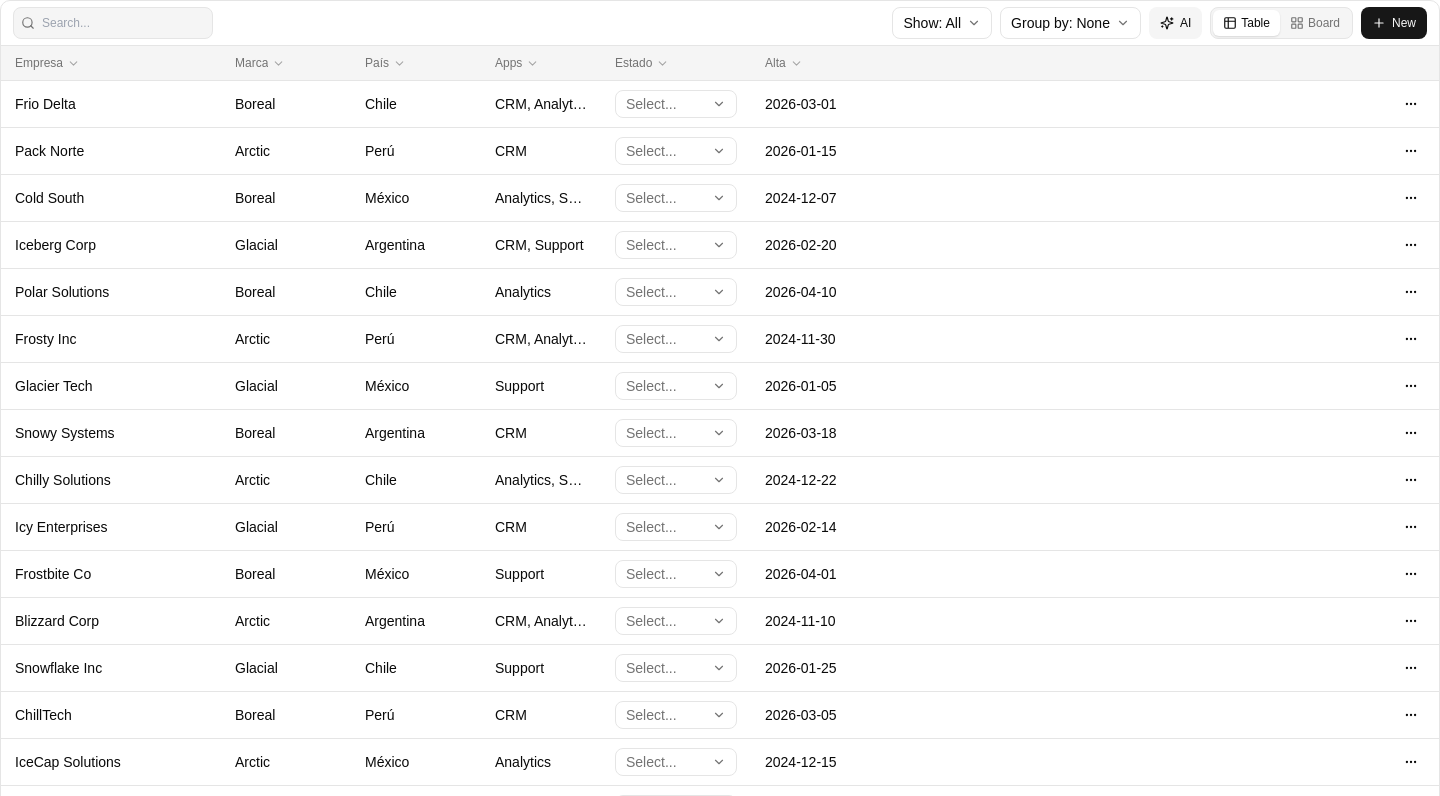
Test case: a full English labels object translates the date filter menu
The width and height of the screenshot is (1440, 796).
Click the button "Alta": (811, 63) 765,54 -> 857,72
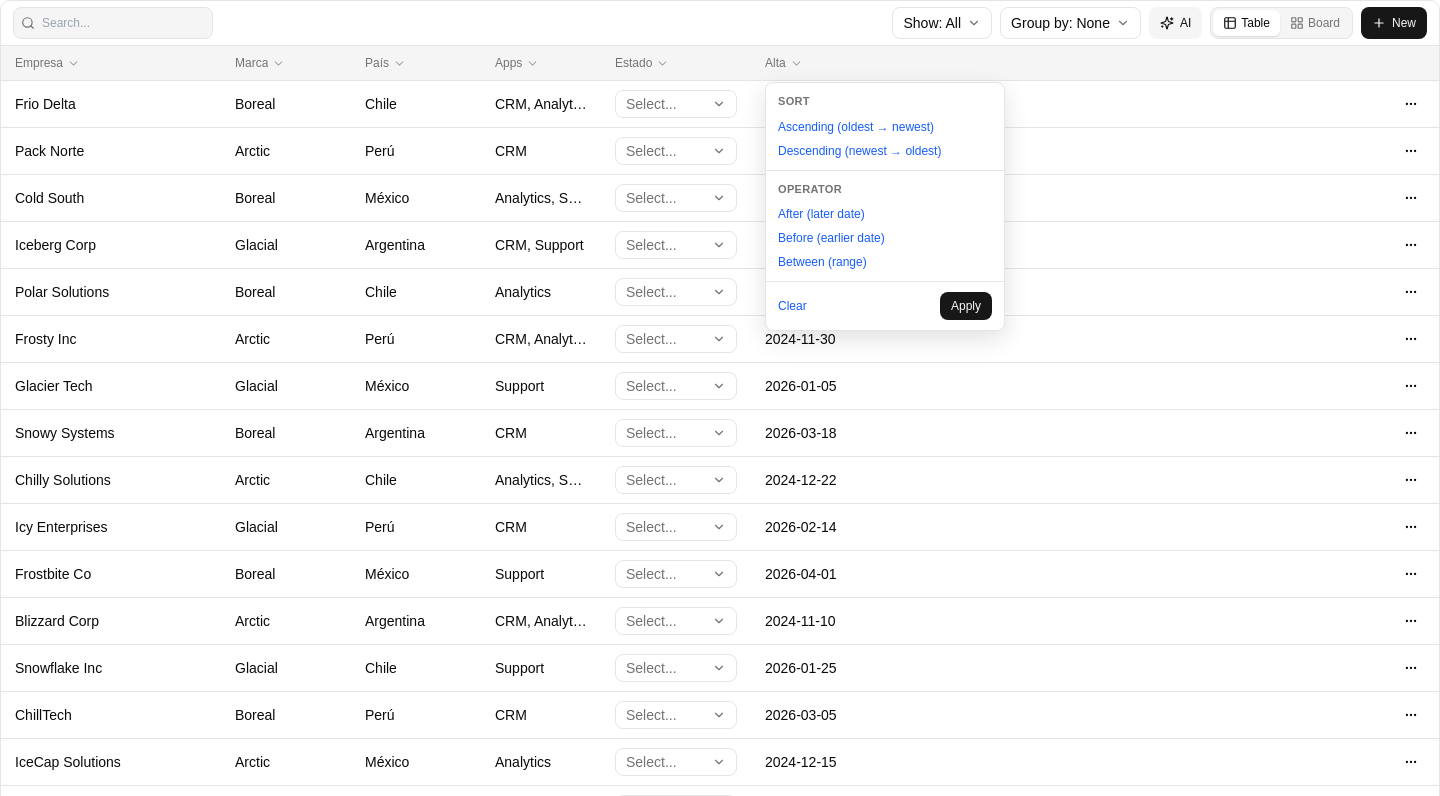
Check: the button "Ascending (oldest → newest)" is shown, box 778,118 -> 992,136
Check: the button "Descending (newest → oldest)" is shown, box 778,142 -> 992,160
Check: the text "Operator" is shown, box 778,180 -> 842,197
Click the button "After (later date)": (885, 214) 778,205 -> 992,223
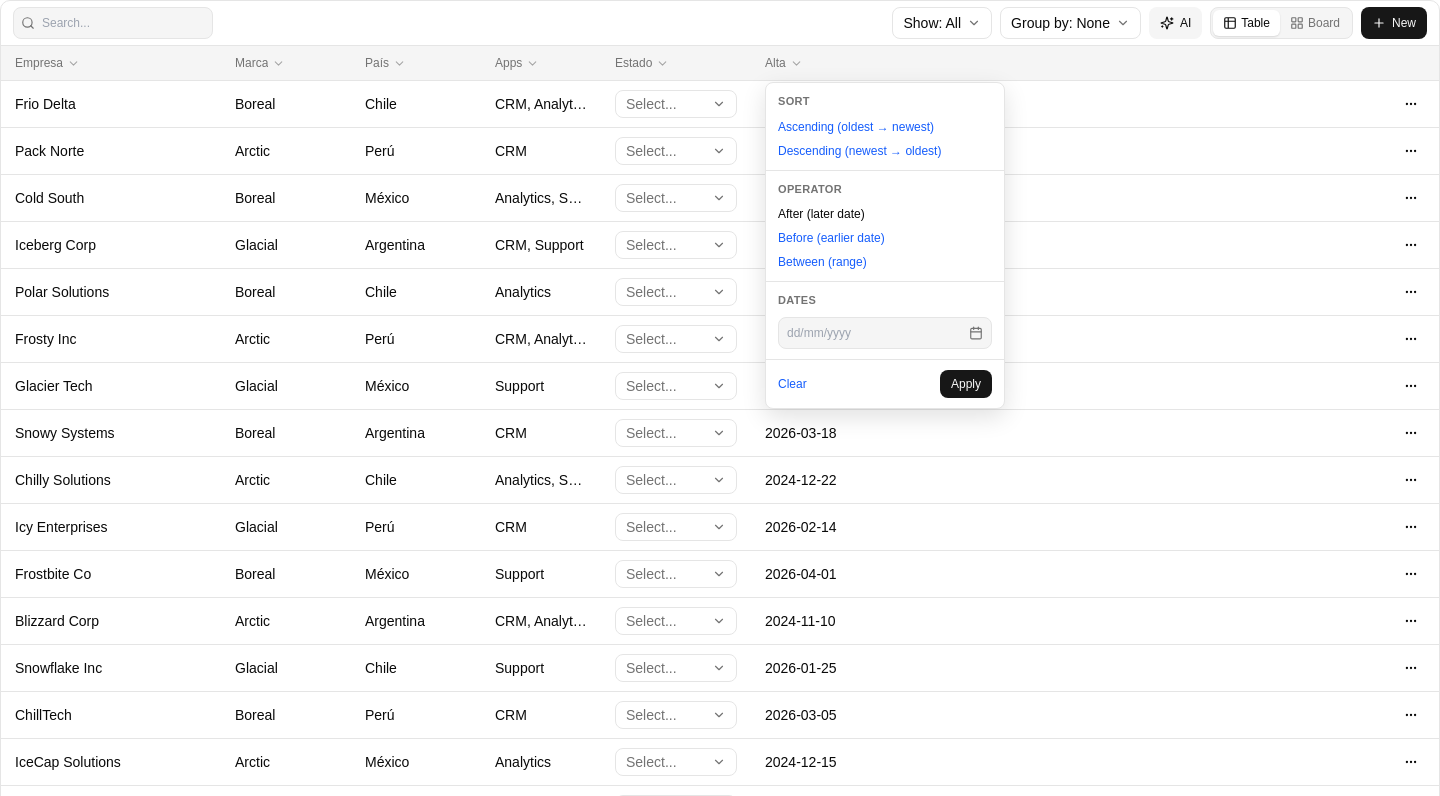
Check: the text "Dates" is shown, box 778,294 -> 816,306
Check: the button named "Pick a date" is shown, box 964,320 -> 988,344
